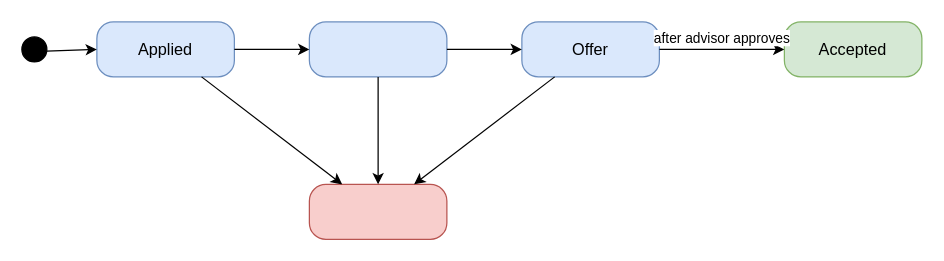
This 944x261 diagram has some shape labels left out. Each missing label, with the centre of its shape:
"Interview" goes at [377,49].
"Rejected" goes at [377,211].
